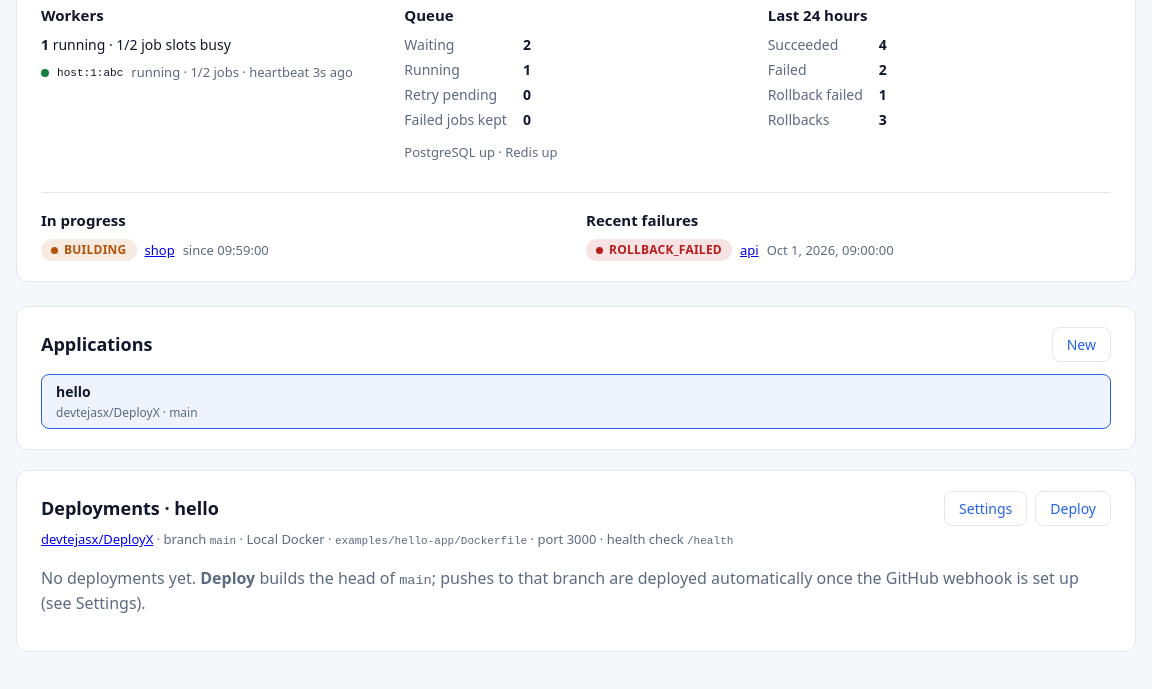
Test: application settings › the Dockerfile path, container port and health-check path can be changed
(page scrolled)
Click the button "Settings". click: (986,509)
box: [944, 491, 1027, 526]
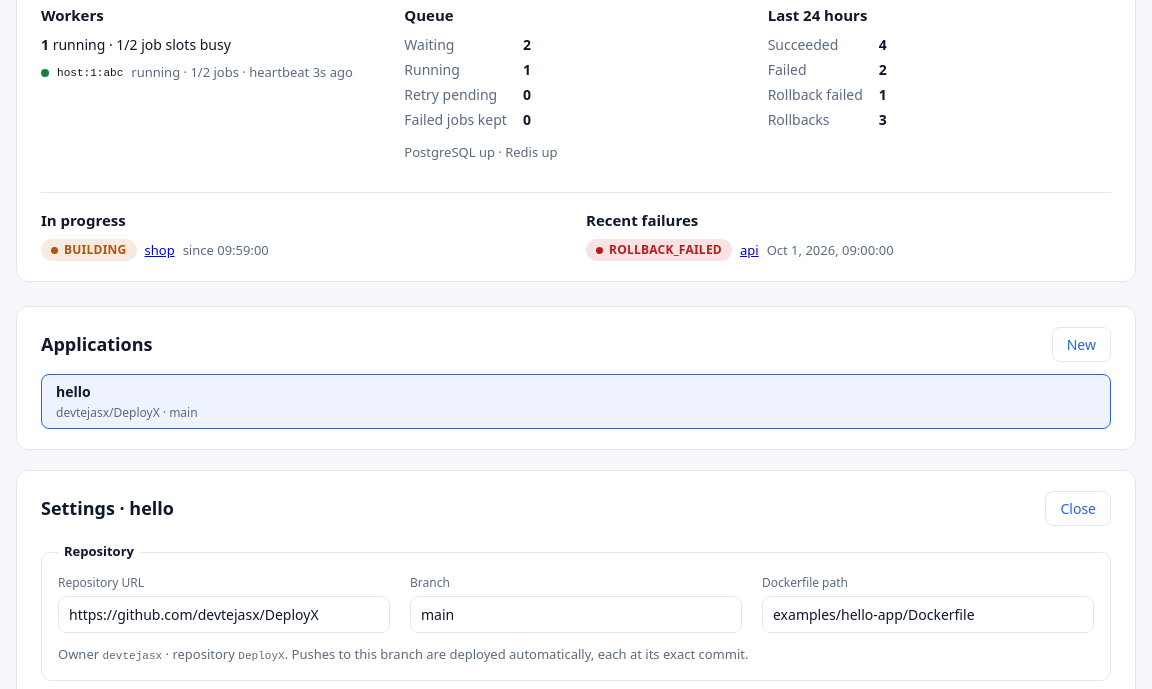
Replace the text in the field labelled "Dockerfile path" with "examples/unhealthy-app/Dockerfile". click: (928,614)
box: [762, 596, 1094, 633]
(page scrolled)
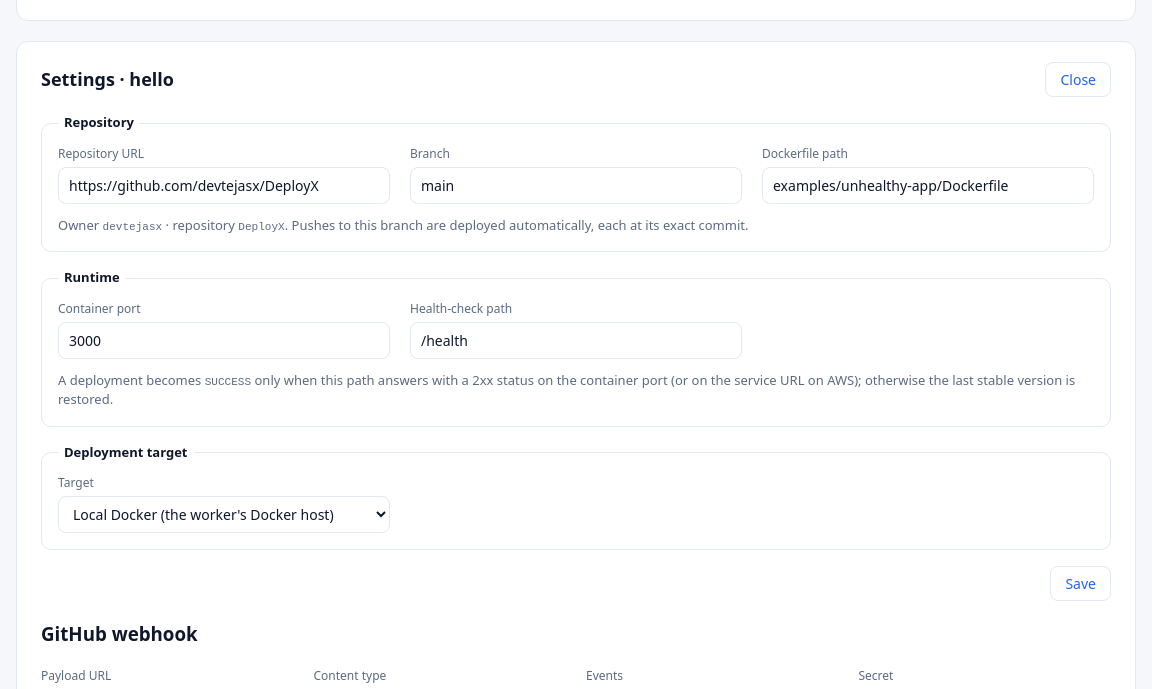
Type "8080" into the number field labelled "Container port". click: (224,340)
box: [58, 322, 390, 359]
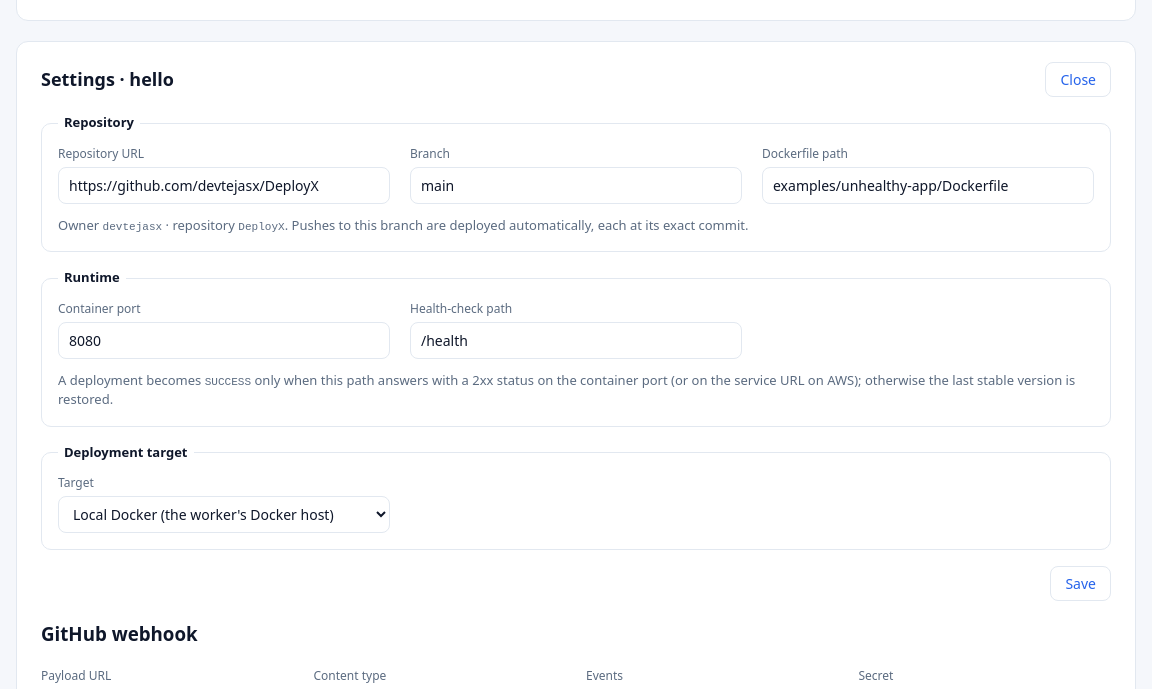
Type "/ready" into the field labelled "Health-check path". click: (576,340)
box: [410, 322, 742, 359]
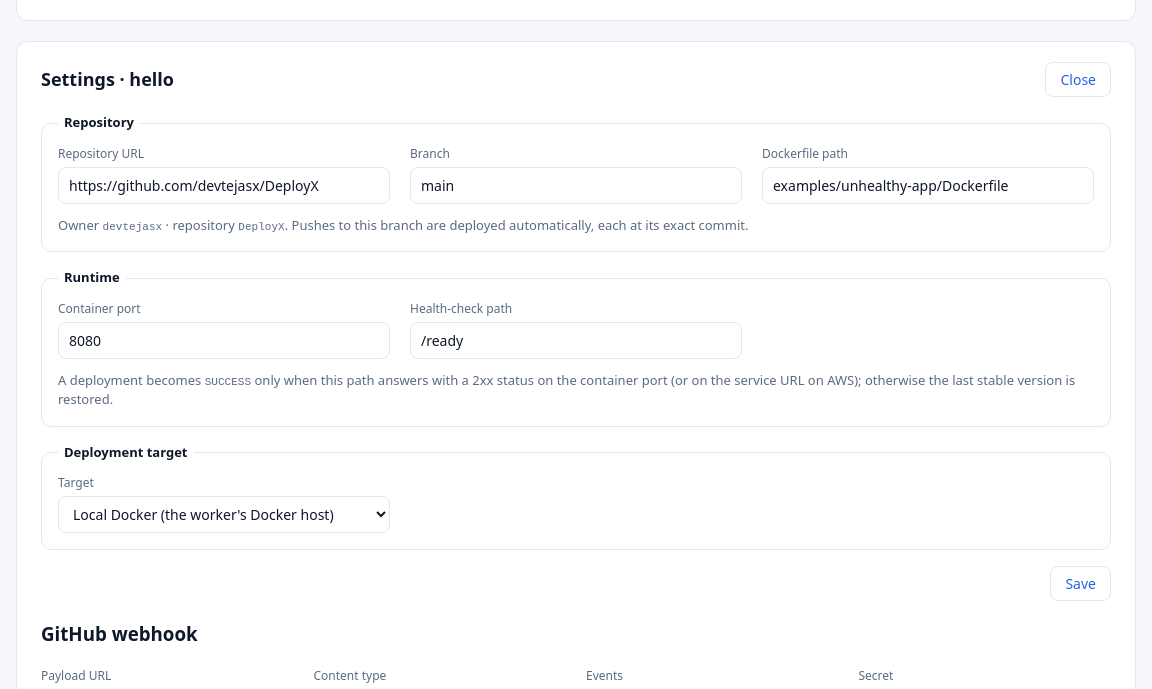
Click the button "Save". click: (1081,584)
box: [1050, 566, 1111, 602]
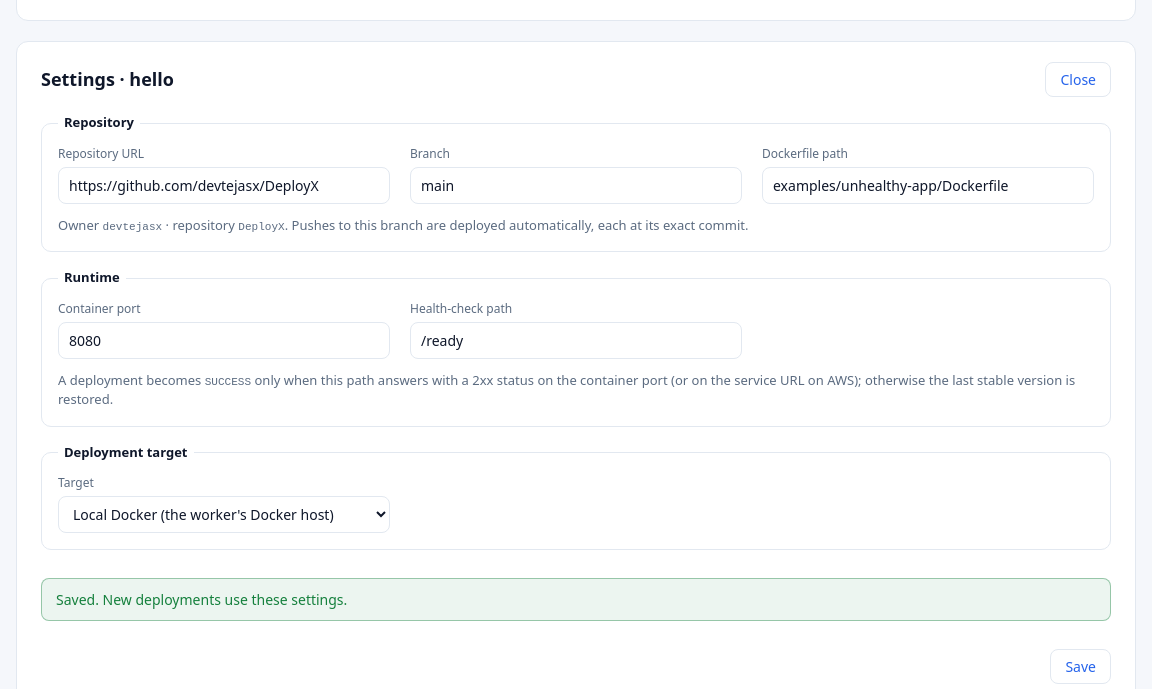
Expected: the message "Saved. New deployments use these settings." is shown, [41, 578, 1111, 622]
